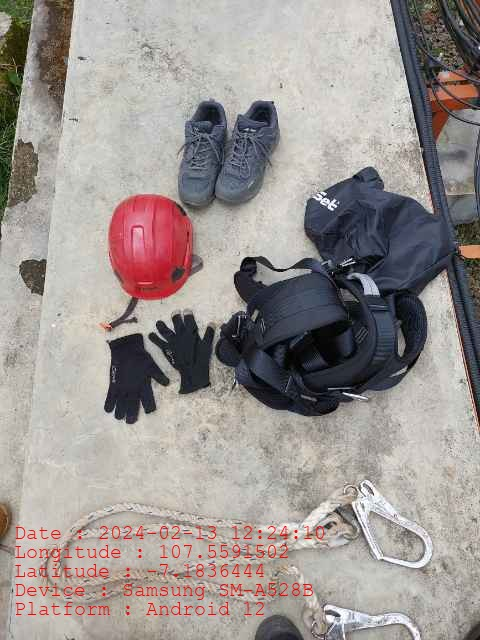HELM: (108, 195, 193, 299)
SARUNG_TANGAN: (104, 333, 171, 425), (148, 312, 215, 393)
SEPATU: (175, 98, 279, 210)
